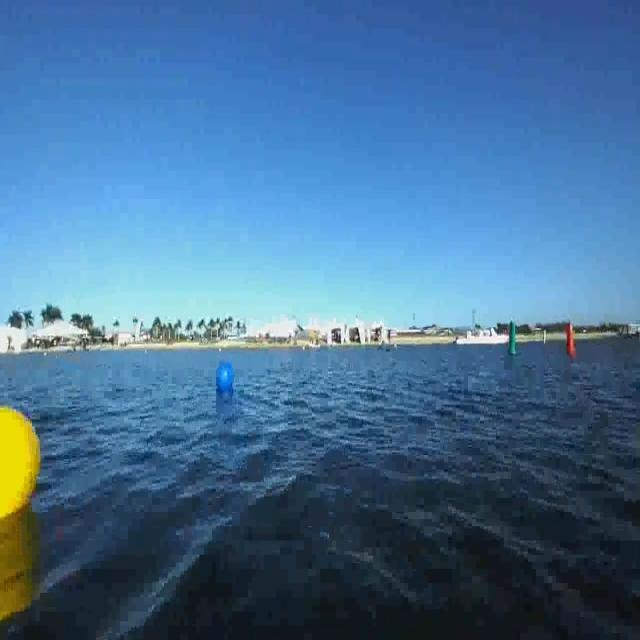blue-buoy: (215, 358, 235, 396)
green-column-buoy: (507, 321, 520, 359)
red-column-buoy: (564, 324, 576, 358)
yellow-buoy: (0, 405, 41, 526)
